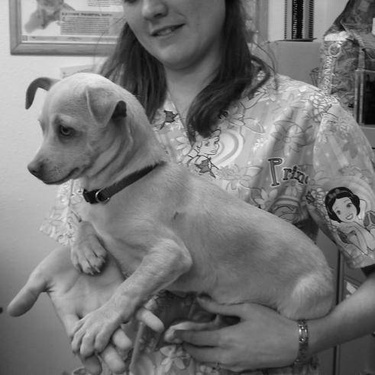dog: (15, 54, 339, 360)
